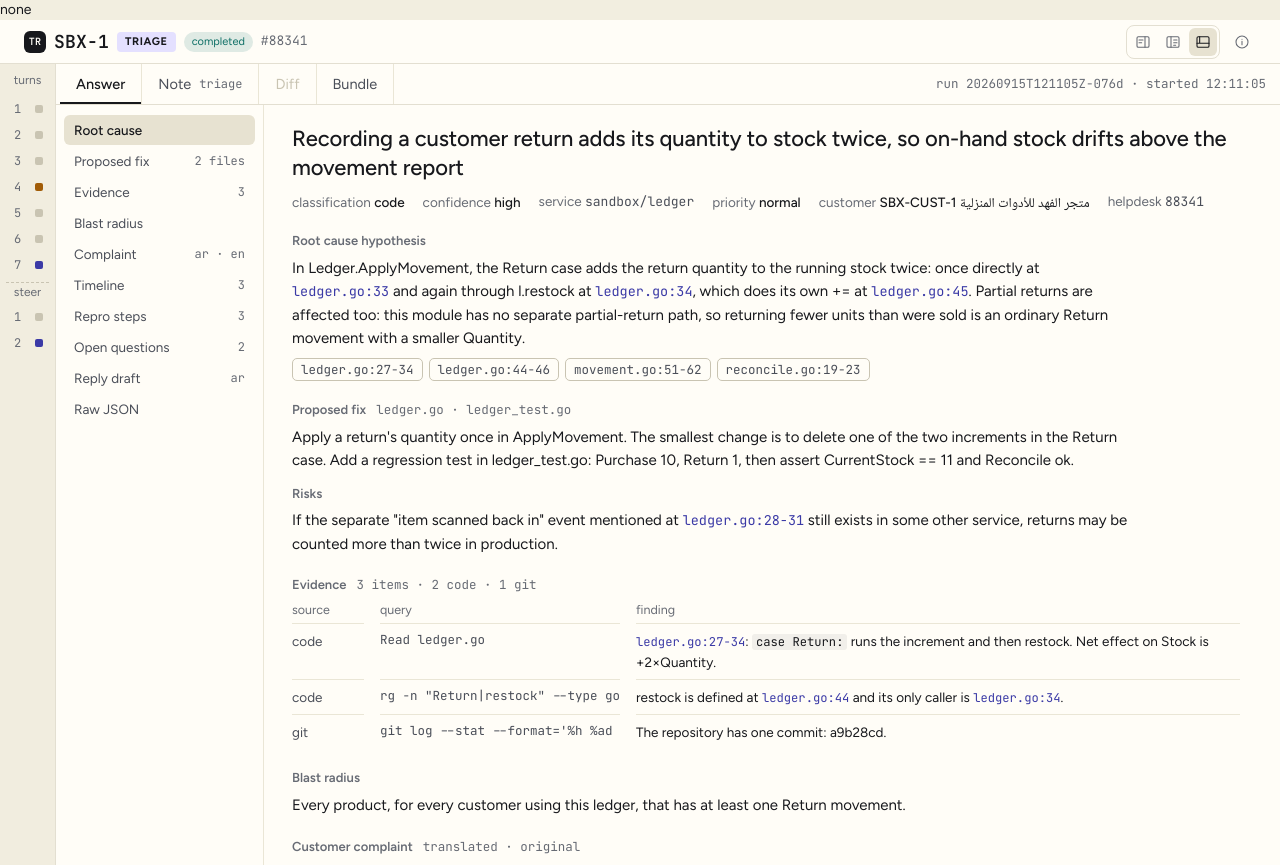
Test: SessionWorkbench › S1 · a completed triage opened fresh › draws the same four-thing header as the other layouts, with the run's figures behind the i
The width and height of the screenshot is (1280, 865).
Expected: the heading "SBX-1" is shown, [54, 29, 109, 55]
Expected: the text "triage" next to "SBX-1" is shown, [125, 35, 168, 48]
Click the button named "About this run": (1242, 42) [1228, 28, 1256, 56]
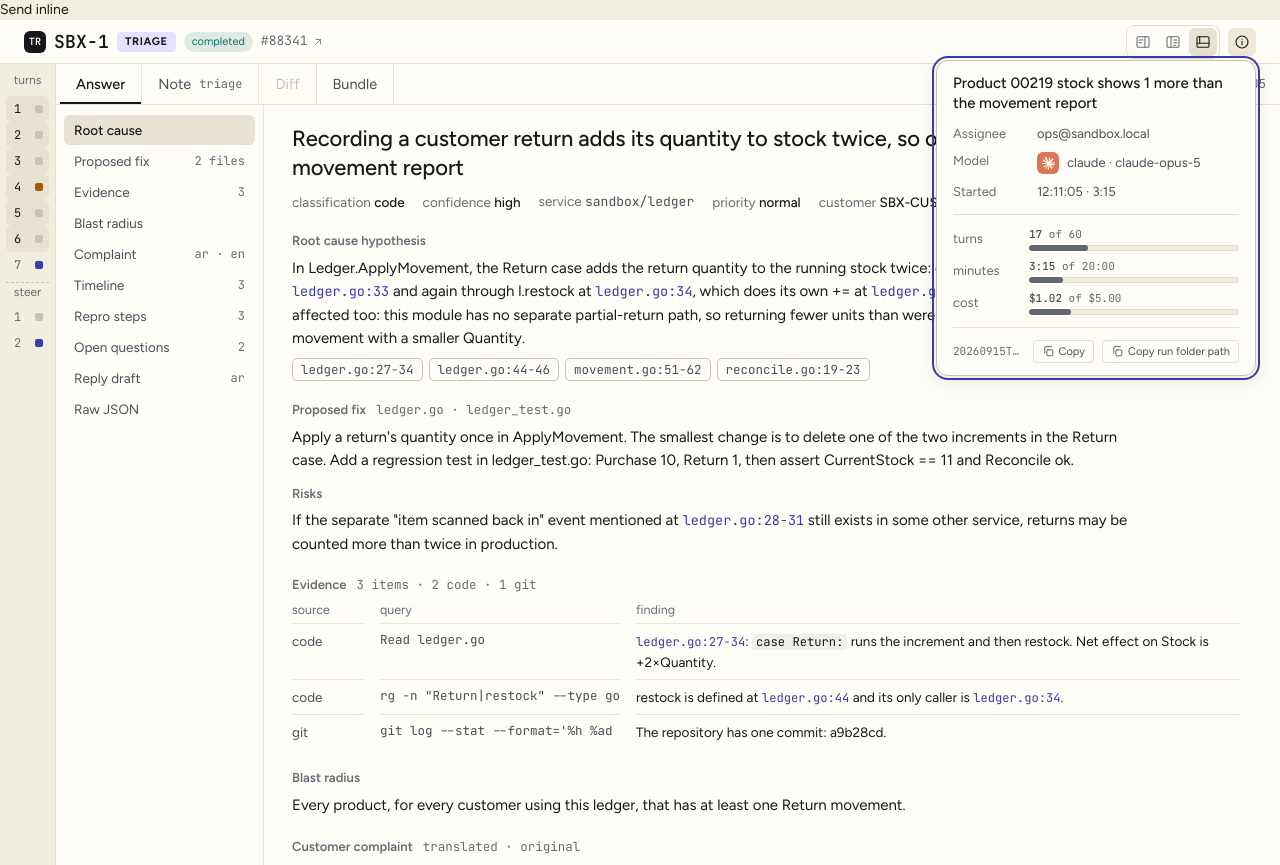
Expected: the text "Product 00219 stock shows 1 more than the movement report" is shown, [953, 73, 1239, 113]
Expected: the picture named "Claude" is shown, [1037, 152, 1059, 174]
Expected: the text "claude · claude-opus-5" is shown, [1067, 154, 1201, 172]
